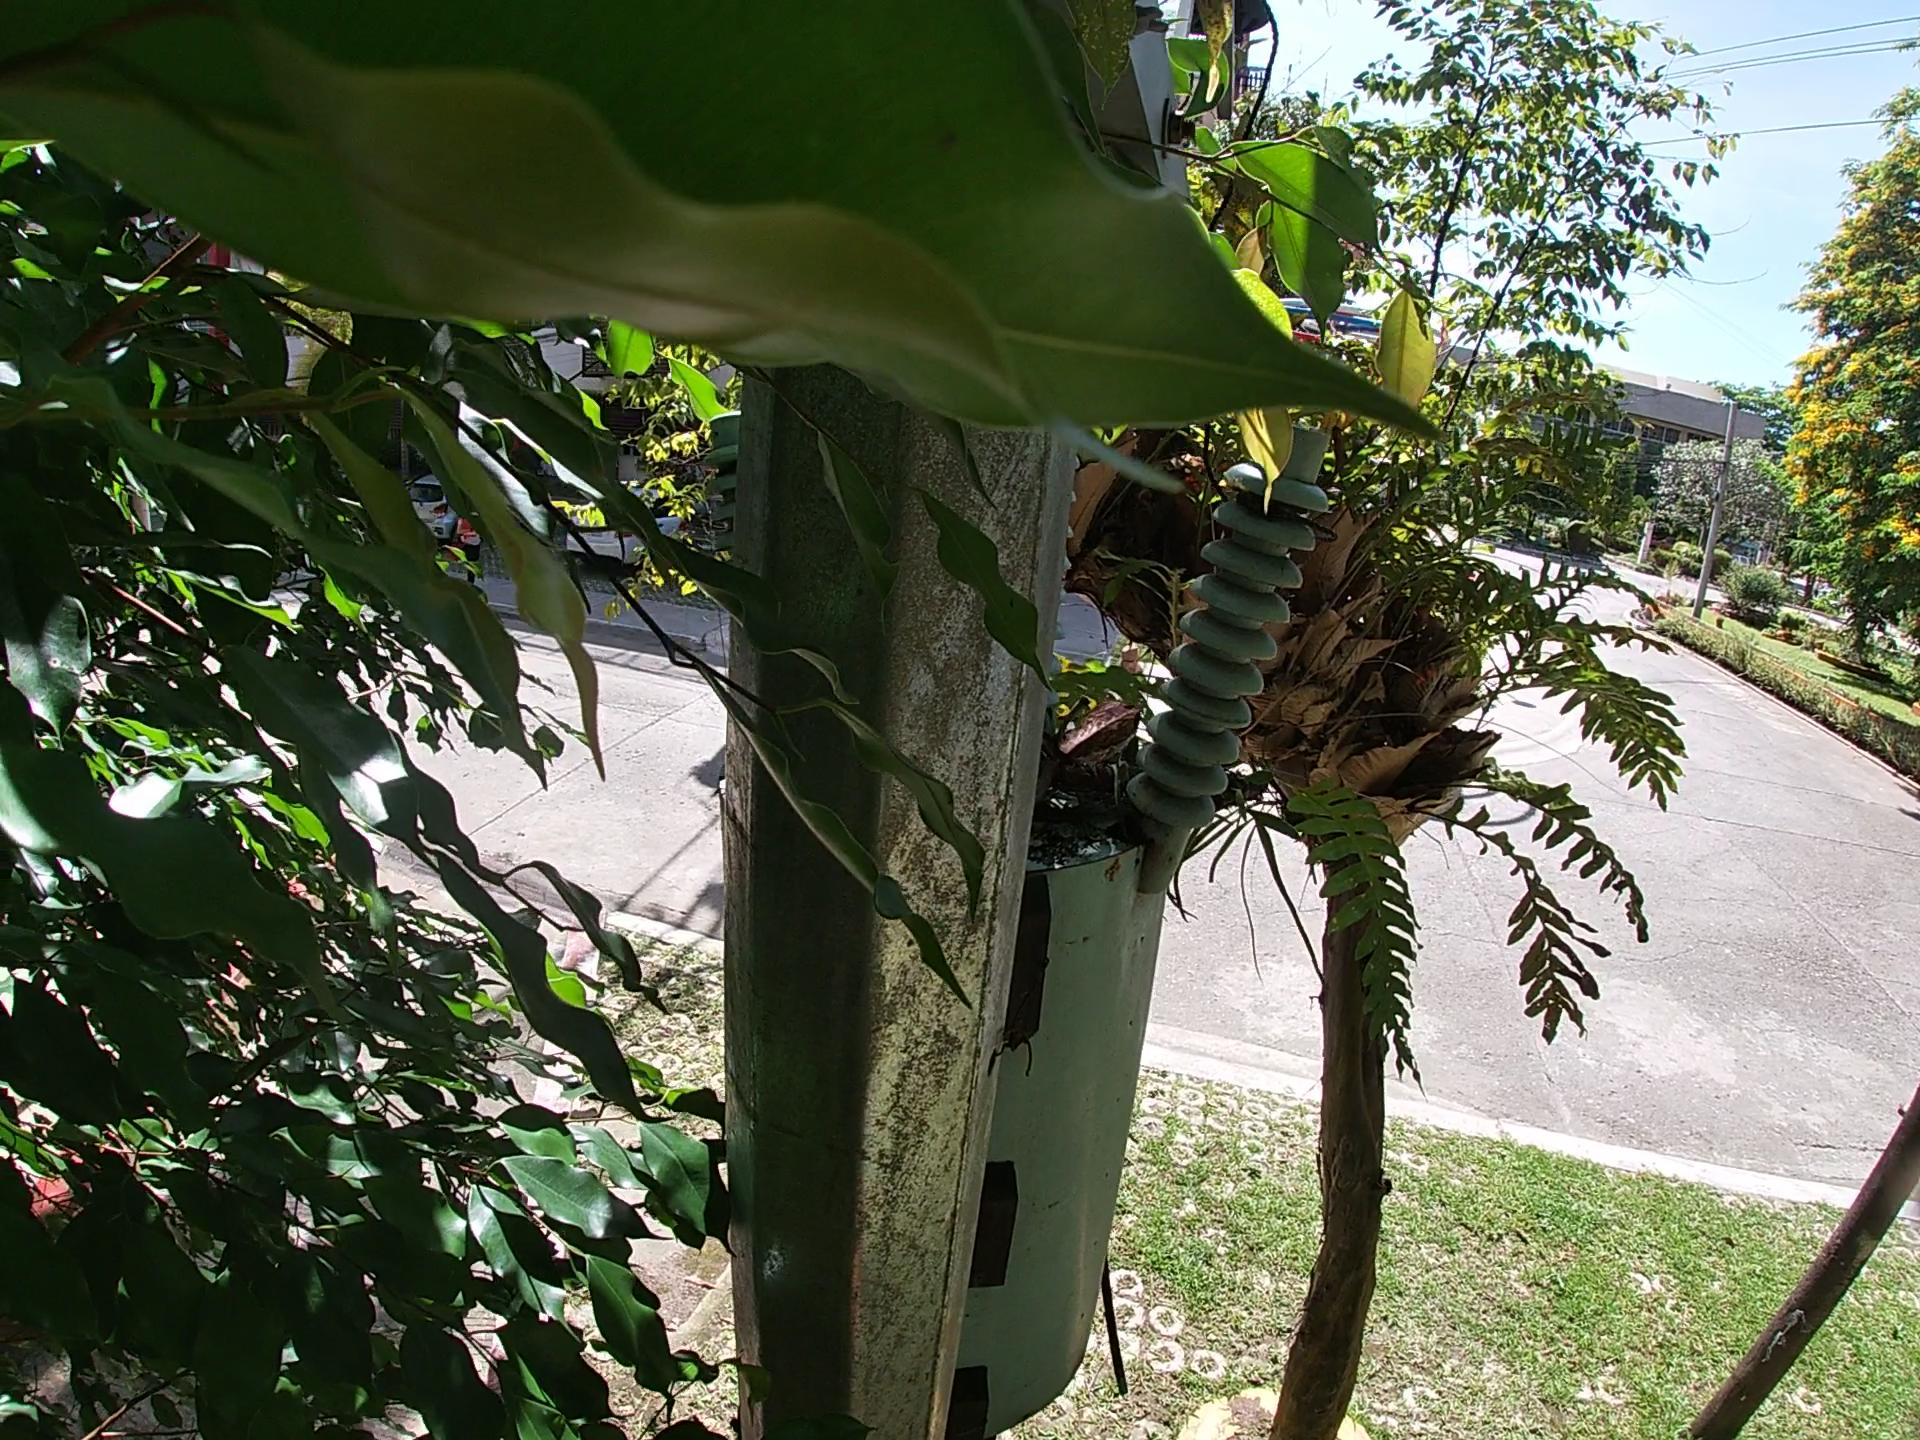branch with leaves: (1011, 655, 1350, 864)
mahogany fruit: (1008, 635, 1064, 700)
tree branch: (1054, 607, 1072, 886)
